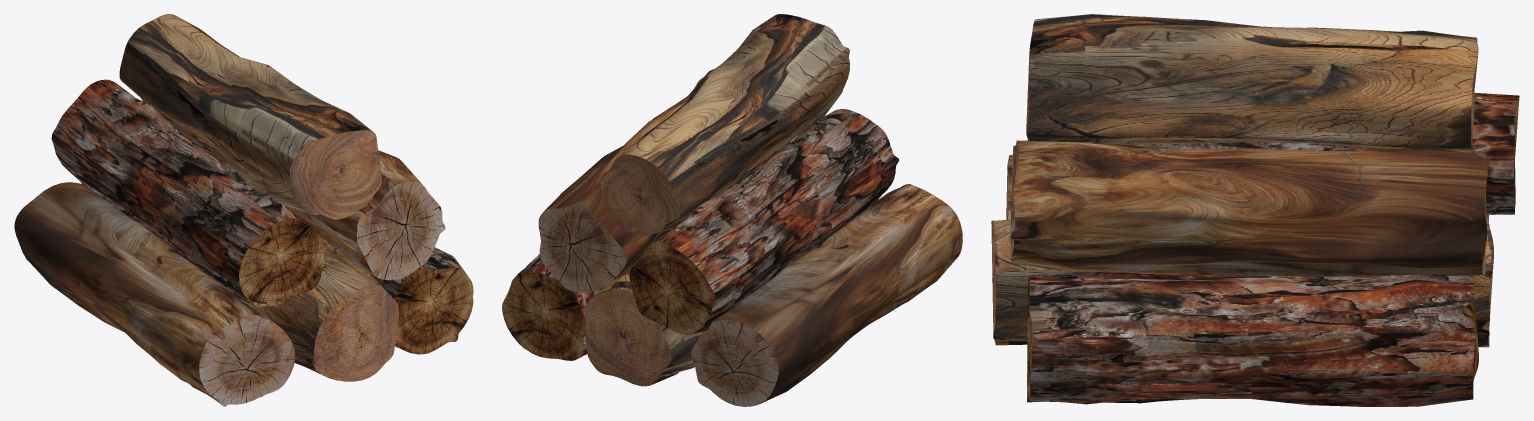
Rendered from logs.fbx.
The picture shows the model from 3 angles, left to right: view 1: azimuth 30°, elevation 25°; view 2: azimuth 150°, elevation 25°; view 3: azimuth 270°, elevation 25°; orthographic projection. The views are drawn at different scales.
Visible parts, largest first — view 1: Log 01, Log 02, Log 03, Log 05, Log 04, Log 06; view 2: Log 02, Log 01, Log 03, Log 04, Log 05, Log 06; view 3: Log 04, Log 06, Log 03, Log 02, Log 05.
Part boxes in pixels (x1=…): Log 01: x1=14, y1=182, x2=295, y2=406; Log 02: x1=51, y1=79, x2=326, y2=306; Log 03: x1=119, y1=14, x2=381, y2=219; Log 05: x1=251, y1=238, x2=398, y2=381; Log 04: x1=251, y1=150, x2=445, y2=280; Log 06: x1=369, y1=247, x2=473, y2=354; Log 02: x1=629, y1=109, x2=899, y2=335; Log 01: x1=691, y1=184, x2=962, y2=406; Log 03: x1=600, y1=14, x2=849, y2=235; Log 04: x1=538, y1=69, x2=790, y2=292; Log 05: x1=585, y1=260, x2=702, y2=386; Log 06: x1=502, y1=254, x2=599, y2=360; Log 04: x1=1010, y1=140, x2=1487, y2=276; Log 06: x1=1027, y1=271, x2=1478, y2=406; Log 03: x1=1026, y1=14, x2=1478, y2=152; Log 02: x1=1135, y1=92, x2=1519, y2=214; Log 05: x1=991, y1=215, x2=1493, y2=347.
Size of the model in its own units: 89.33 by 71.25 by 107.
